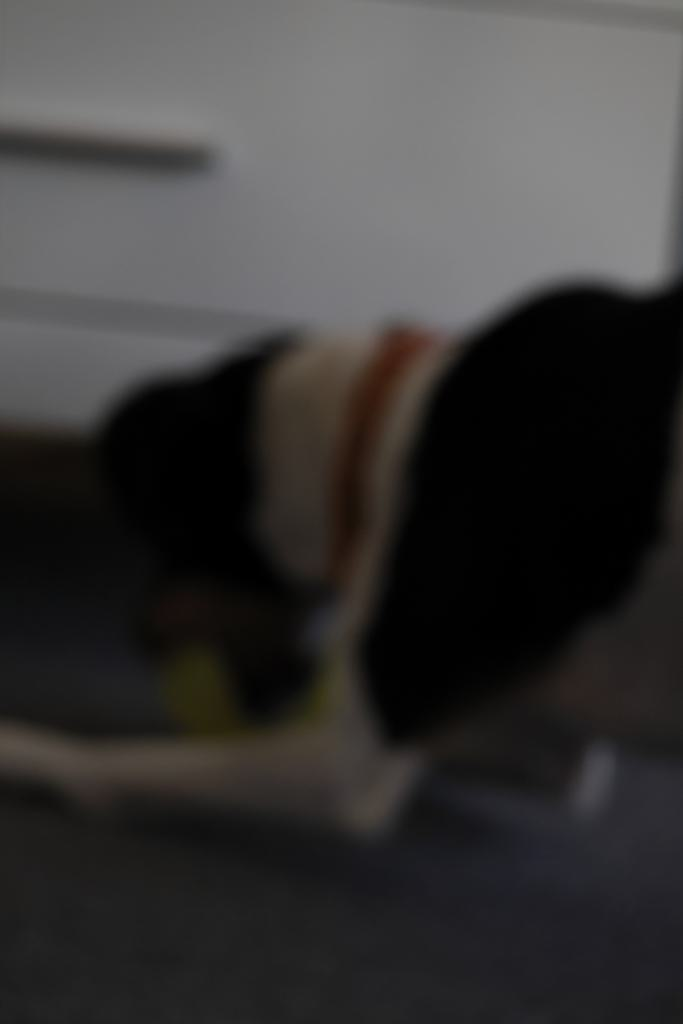Dog: (0, 240, 683, 877)
